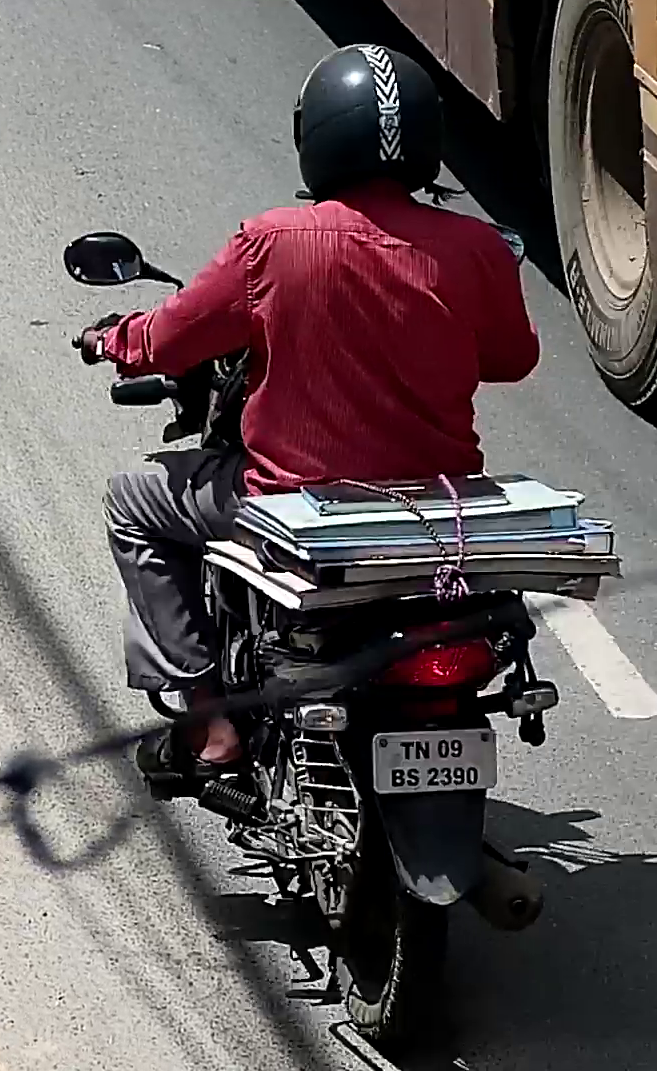0: (466, 766, 479, 786), (437, 740, 449, 759)
2: (426, 767, 440, 787)
3: (440, 767, 452, 786)
9: (449, 739, 463, 758), (453, 766, 465, 786)
B: (390, 768, 405, 788)
N: (414, 740, 430, 760)
P16: (371, 725, 498, 795)
S: (406, 768, 420, 787)
T: (399, 741, 414, 759)
